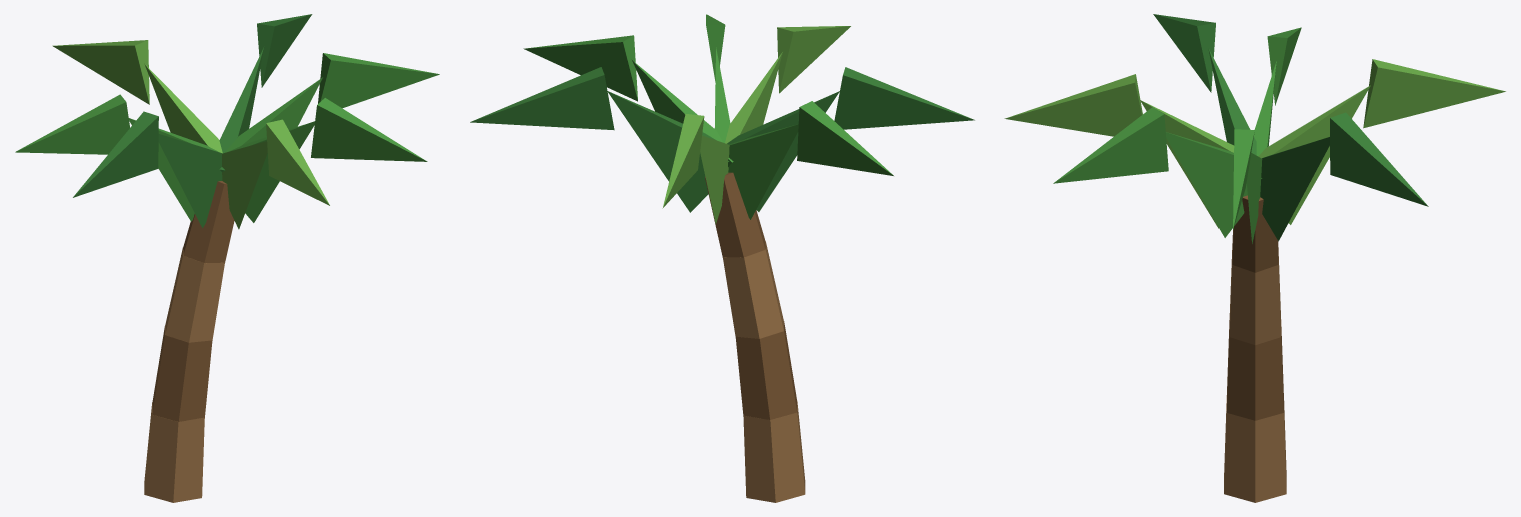
File: palmtree-3.glb
3 views of the same model, side by side, from view 1: azimuth 30°, elevation 25°; view 2: azimuth 150°, elevation 25°; view 3: azimuth 270°, elevation 25° (orthographic). The views are drawn at different scales.
Visible parts, largest first — view 1: palmtree-3; view 2: palmtree-3; view 3: palmtree-3.
Part boxes in pixels (x1=…): palmtree-3: x1=15, y1=14, x2=439, y2=502; palmtree-3: x1=470, y1=14, x2=974, y2=502; palmtree-3: x1=1004, y1=14, x2=1505, y2=502.
Size of the model in its own units: 0.5326 by 0.5117 by 0.5274.
1 material, 1 textured.
